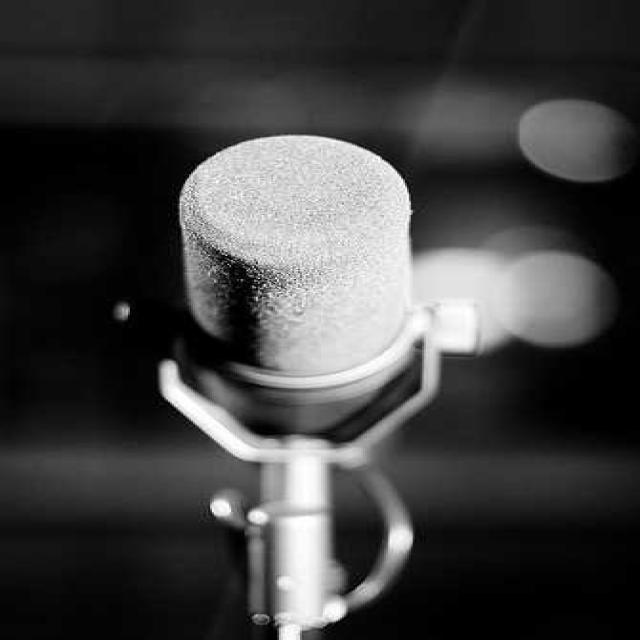microphone: (158, 136, 482, 626)
